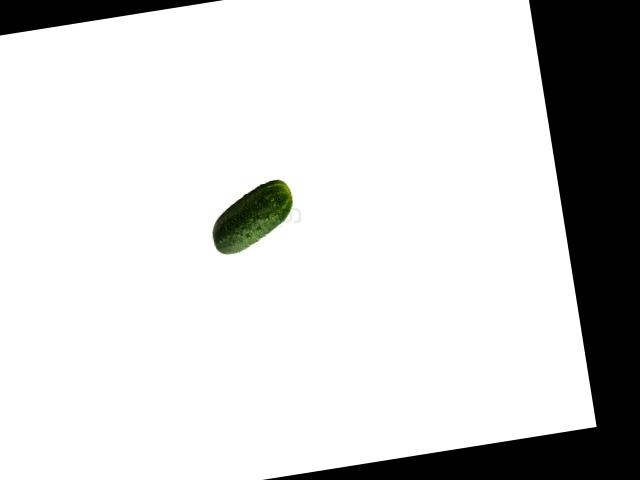cucumber: (205, 178, 299, 256)
